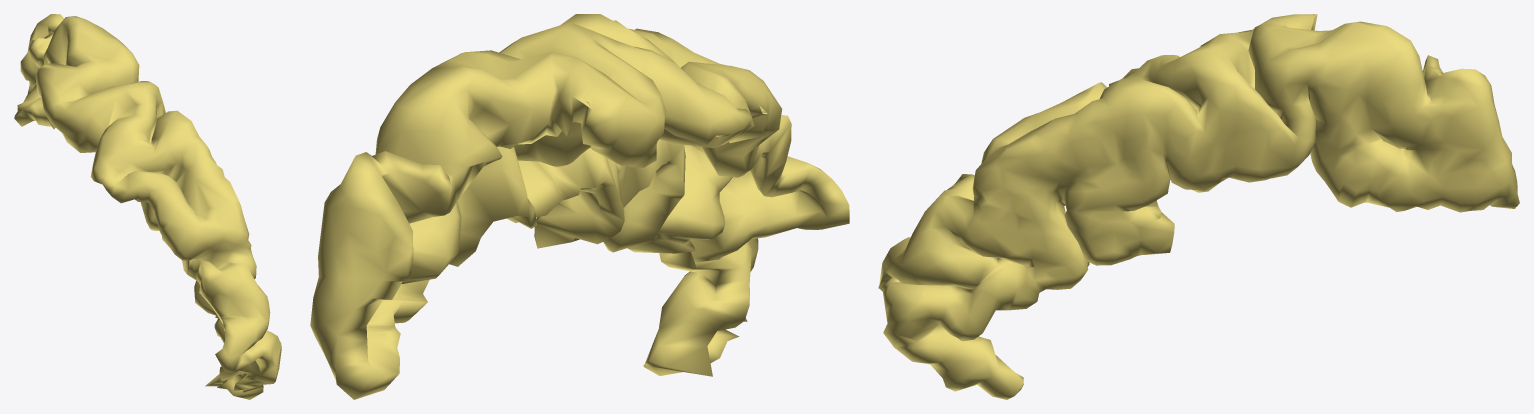
The model's file is superior-frontal-gyrus-r.glb.
3 views of the same model, side by side, from view 1: azimuth 30°, elevation 25°; view 2: azimuth 150°, elevation 25°; view 3: azimuth 270°, elevation 25° (orthographic). The views are drawn at different scales.
Visible parts, largest first — view 1: Superior frontal gyrus.r; view 2: Superior frontal gyrus.r; view 3: Superior frontal gyrus.r.
Boxes of the visible parts, x1,y1,x2,y2 form: Superior frontal gyrus.r: [14, 14, 281, 399]; Superior frontal gyrus.r: [310, 14, 849, 399]; Superior frontal gyrus.r: [878, 14, 1519, 399].
Bounding box in the file's own units: 0.0281 × 0.0711 × 0.1146.
